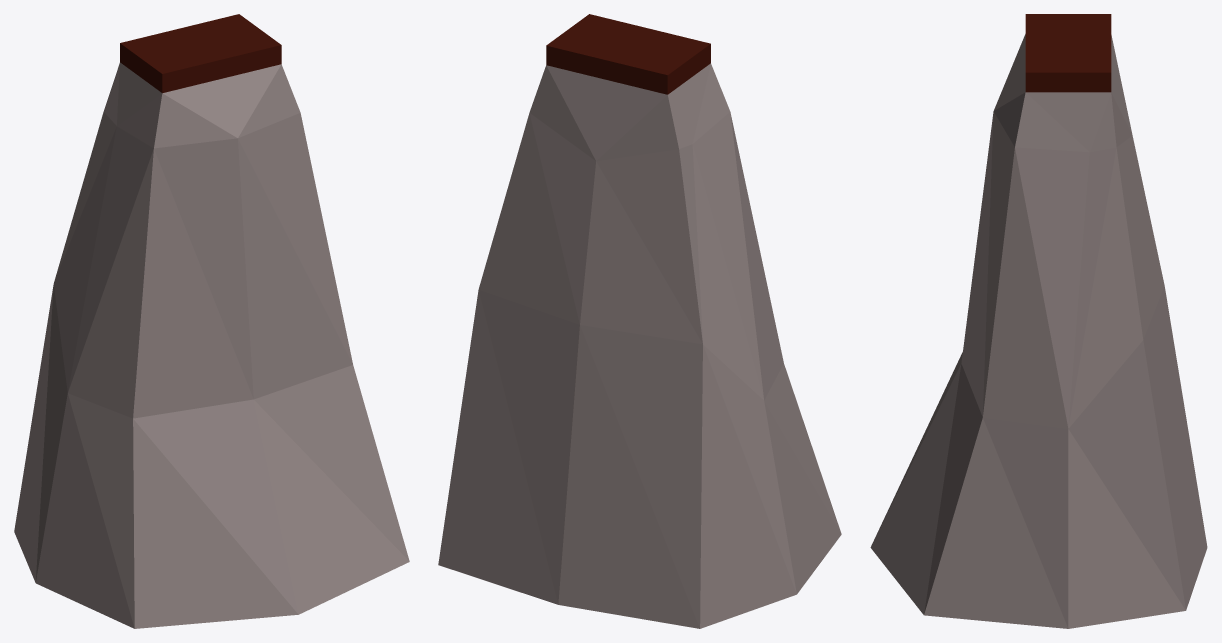
File: npc_world_zadimus_spirit_2.obj
3 renders of one model, left to right at view 1: azimuth 30°, elevation 25°; view 2: azimuth 150°, elevation 25°; view 3: azimuth 270°, elevation 25°, orthographic.
Size of the model in its own units: 0.5625 by 0.8125 by 0.4922.
